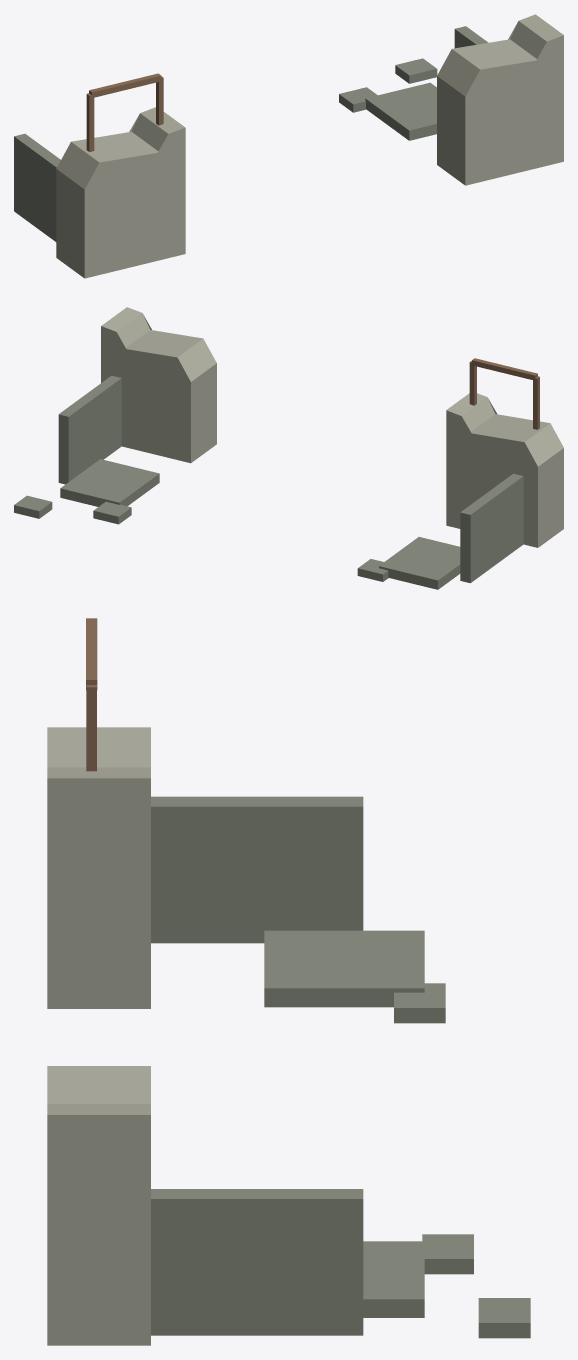
The model's file is ua_pond_spillway_ruin.obj.
3 views of the same model, one above another, from view 1: azimuth 30°, elevation 25°; view 2: azimuth 150°, elevation 25°; view 3: azimuth 270°, elevation 25° (orthographic). The views are drawn at different scales.
Parts seen in each view (by area): view 1: ua_pond_spillway_ruin; view 2: ua_pond_spillway_ruin; view 3: ua_pond_spillway_ruin.
Boxes of the visible parts, box(x1,y1,x2,y2) form: ua_pond_spillway_ruin: box(14, 14, 563, 278); ua_pond_spillway_ruin: box(14, 307, 563, 589); ua_pond_spillway_ruin: box(47, 618, 530, 1345).
Bounding box in the file's own units: 10.7 × 3.71 × 5.12.
